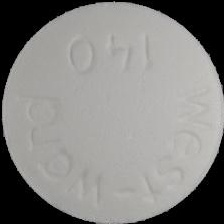21695-890: (0, 0, 224, 224)
